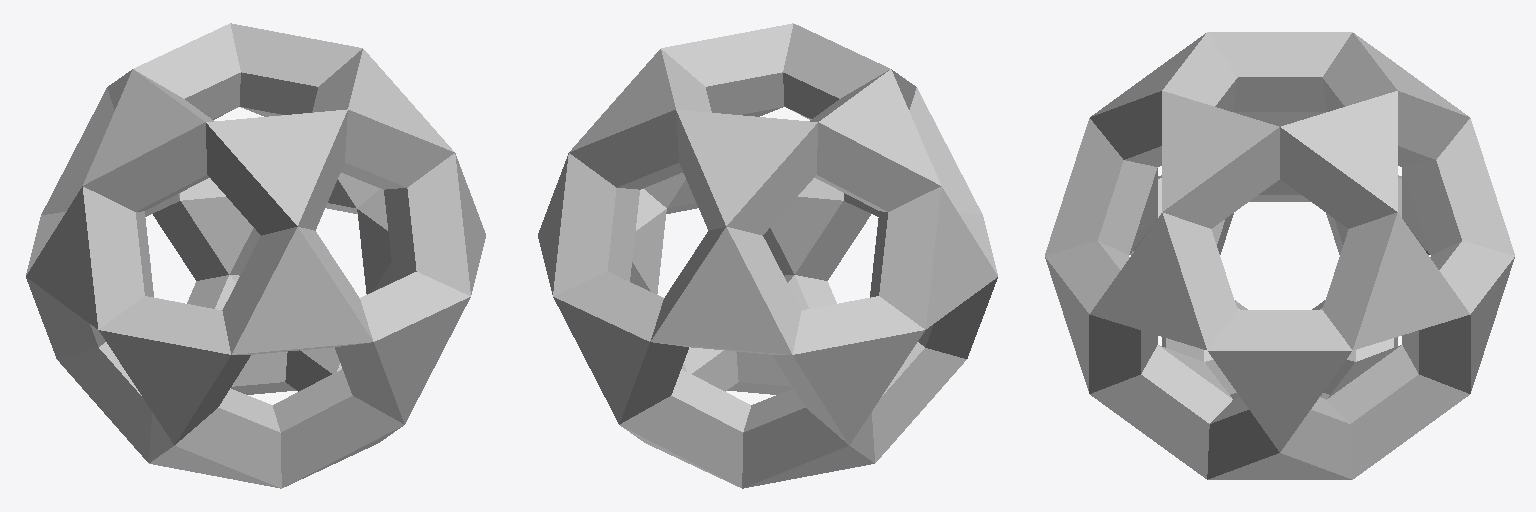
The model's file is epol_1.obj.
The picture shows the model from 3 angles: view 1: azimuth 30°, elevation 25°; view 2: azimuth 150°, elevation 25°; view 3: azimuth 270°, elevation 25°; orthographic projection.
Size of the model in its own units: 3.08 by 2.75 by 3.24.